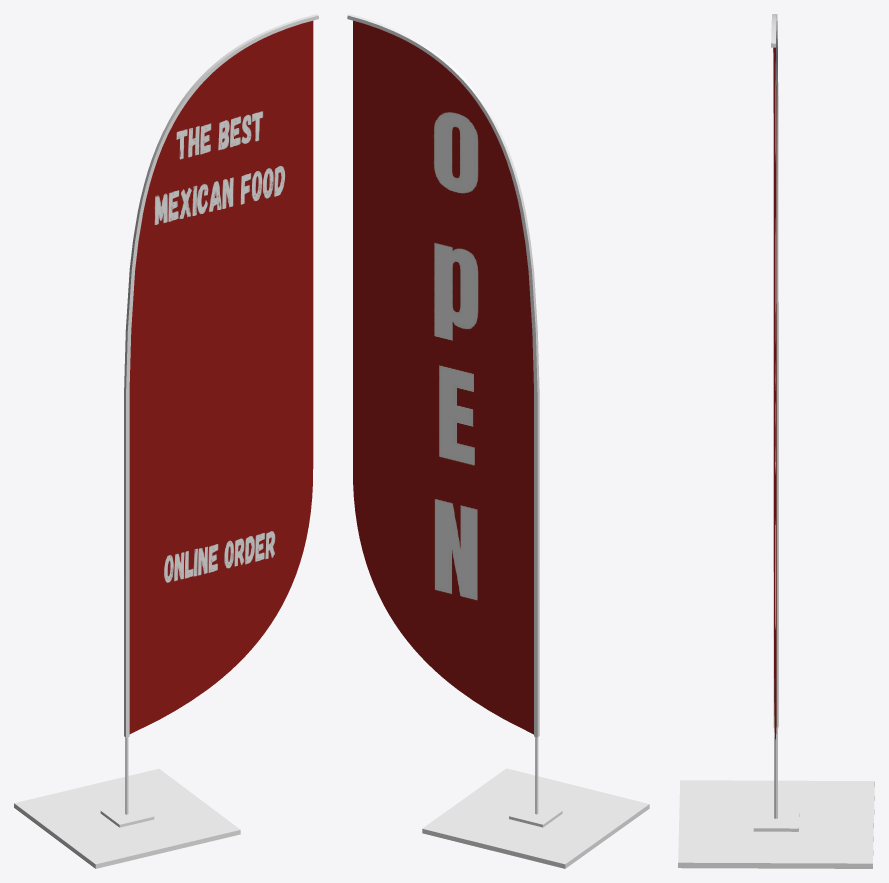
Rendered from flag.gltf.
3 renders of one model, left to right at view 1: azimuth 30°, elevation 25°; view 2: azimuth 150°, elevation 25°; view 3: azimuth 270°, elevation 25°, orthographic. The views are drawn at different scales.
Parts seen in each view (by area): view 1: Line002, Box002, Line001, Box001; view 2: Line002, Box002, Line001, Box001; view 3: Box002, Line002, Line001, Box001.
Part boxes in pixels (bbox=[...]): Line002: bbox=[129, 20, 313, 733]; Box002: bbox=[14, 768, 240, 868]; Line001: bbox=[124, 14, 318, 737]; Box001: bbox=[100, 802, 154, 827]; Line002: bbox=[353, 20, 533, 734]; Box002: bbox=[422, 768, 649, 868]; Line001: bbox=[347, 14, 539, 737]; Box001: bbox=[509, 802, 562, 827]; Box002: bbox=[678, 780, 874, 868]; Line002: bbox=[773, 47, 776, 740]; Line001: bbox=[771, 14, 778, 728]; Box001: bbox=[753, 808, 799, 831].
Size of the model in its own units: 19.63 by 54.49 by 10.89.
Materials: 2 (1 with a texture image).
